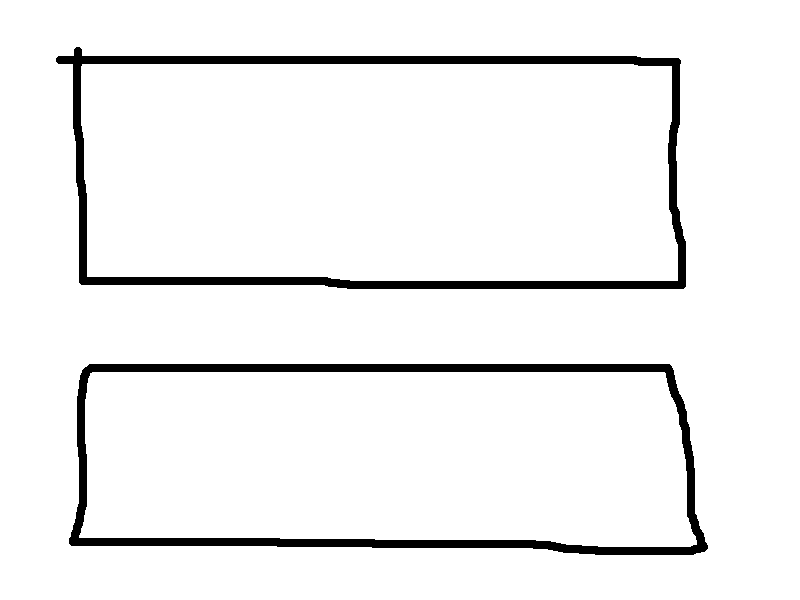rect: (55, 43, 693, 298), (67, 358, 712, 560)
